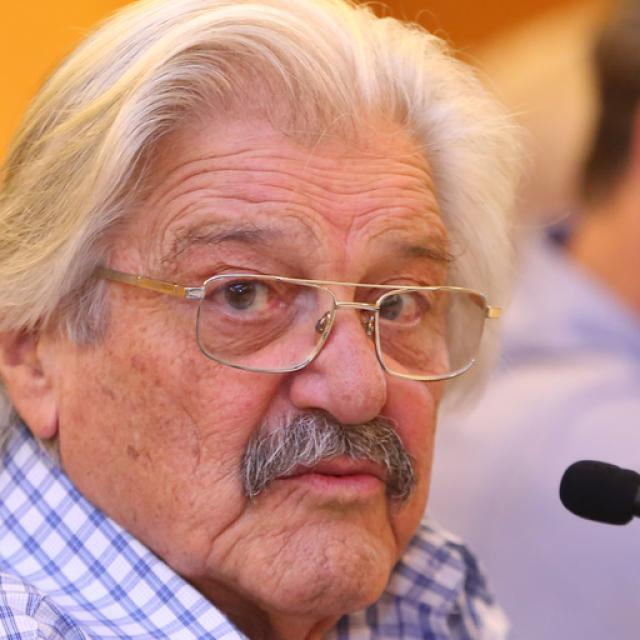surprise: (88, 106, 452, 616)
